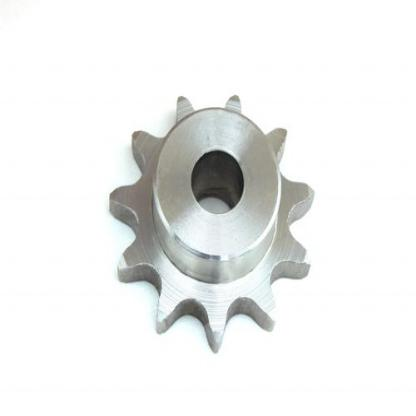FOD: (106, 86, 318, 354)
